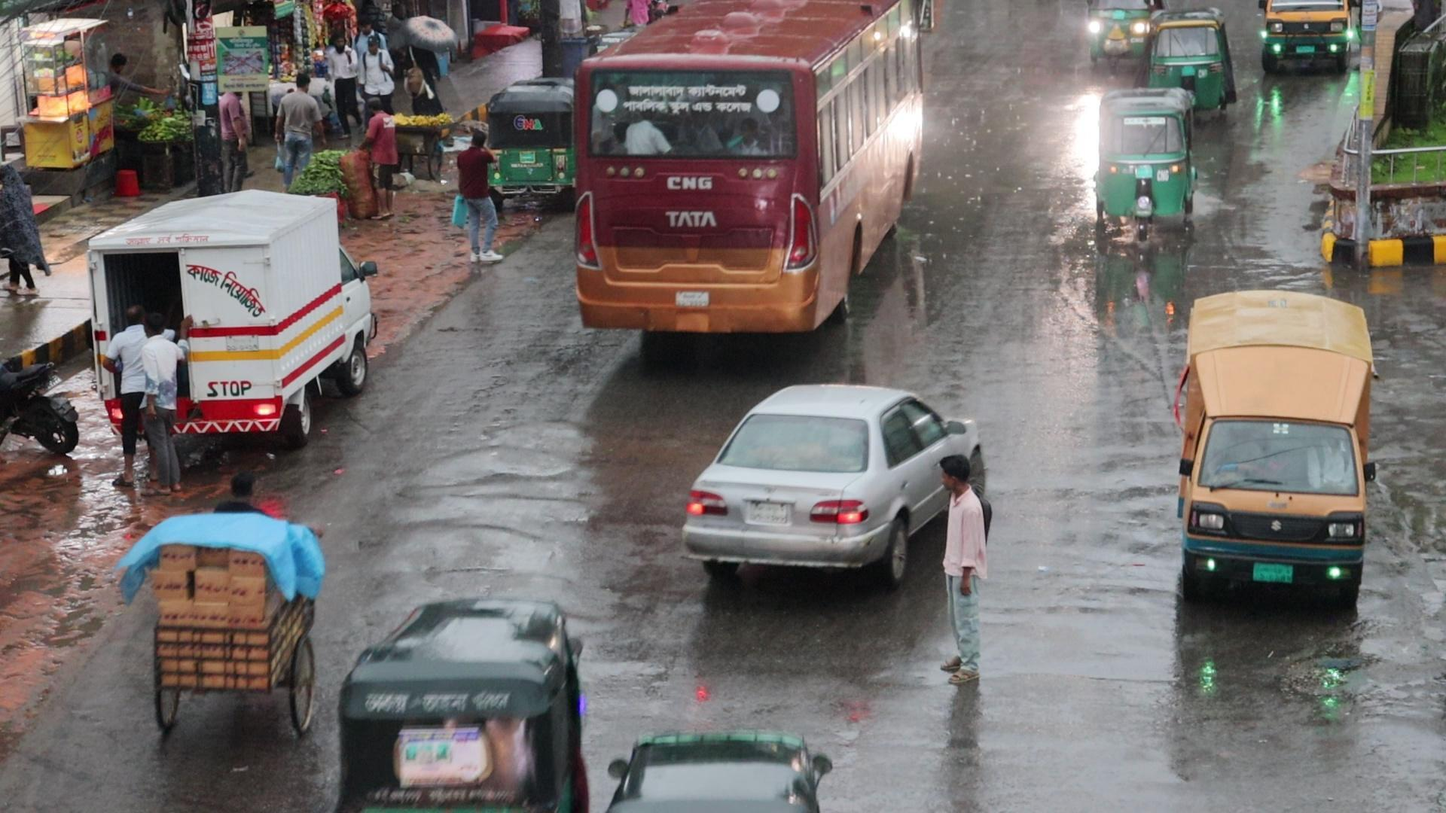Bus: (566, 0, 934, 352)
Car: (683, 384, 997, 606)
Truck: (1171, 284, 1377, 630)
